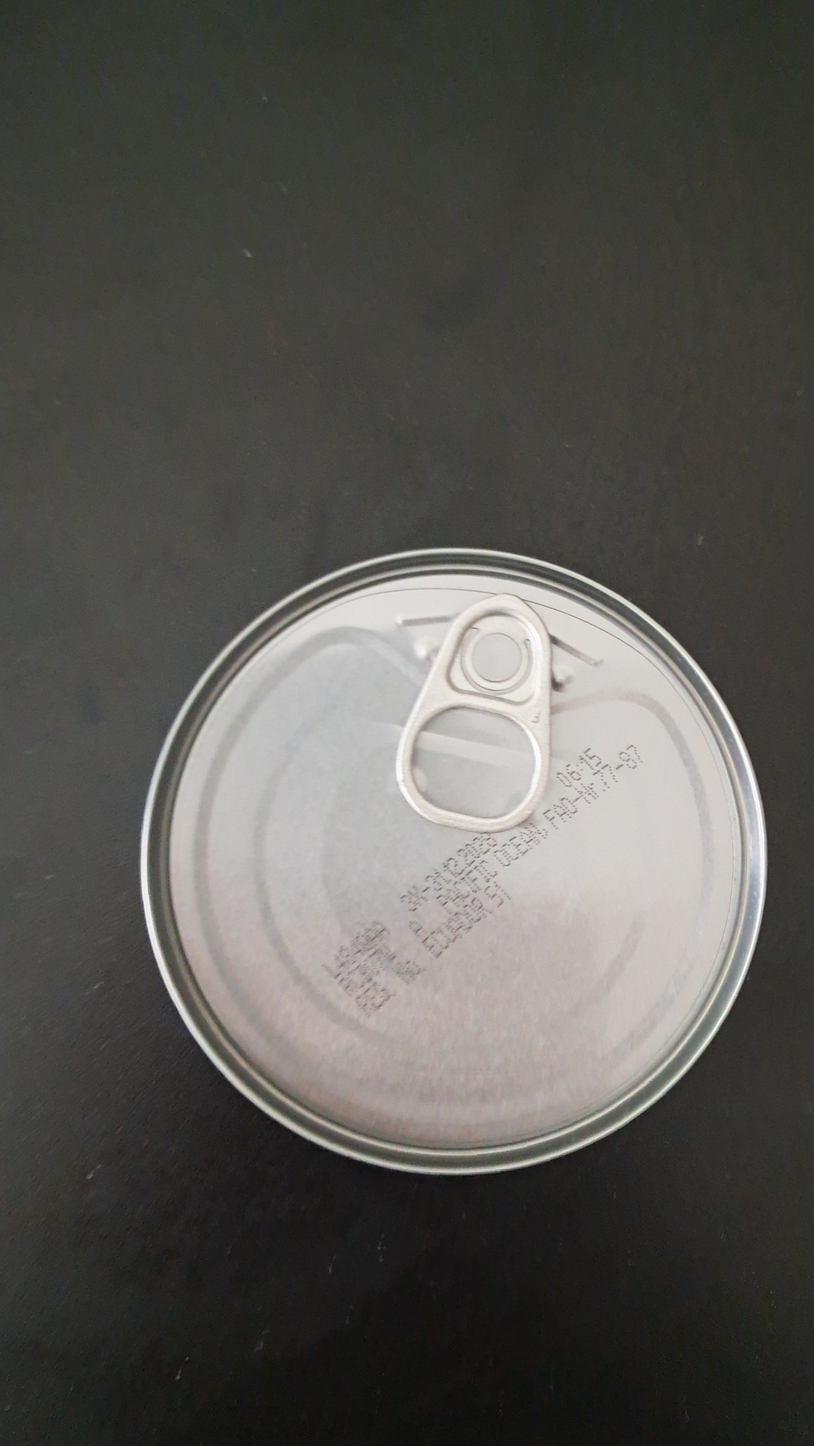Konservburk: (135, 542, 774, 1182)
